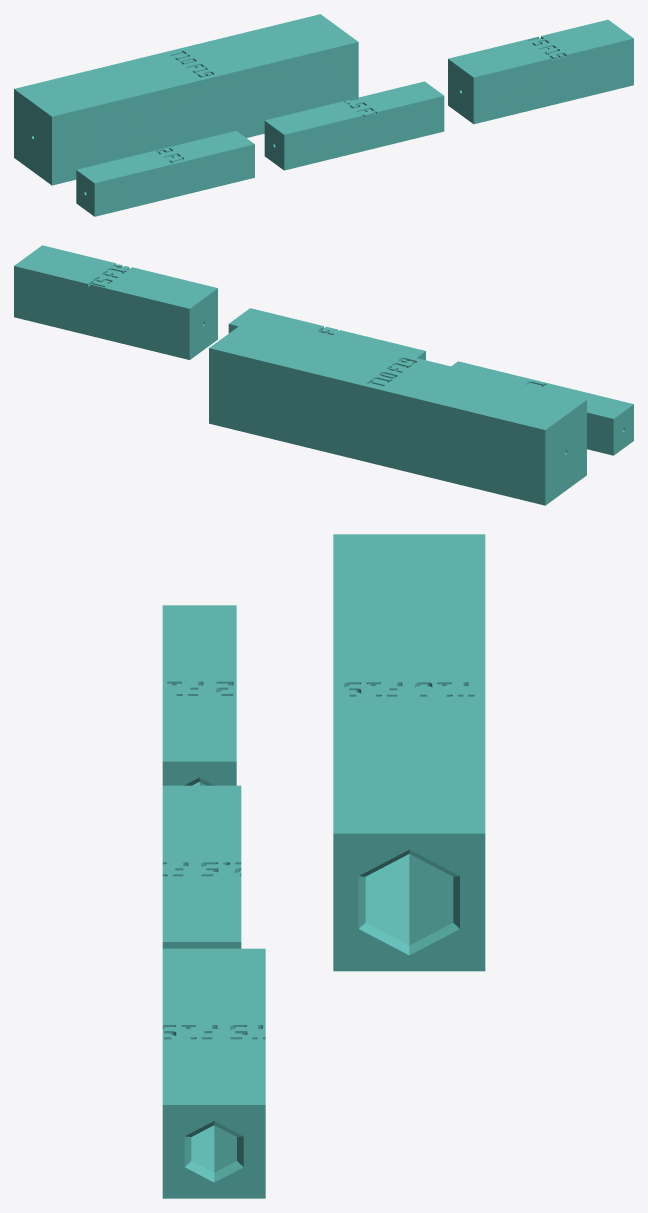
File: coupon.glb
3 views of the same model, one above another, from view 1: azimuth 30°, elevation 25°; view 2: azimuth 150°, elevation 25°; view 3: azimuth 270°, elevation 25° (orthographic). The views are drawn at different scales.
Visible parts, largest first — view 1: 40 mm minimum shaft guide coupon; view 2: 40 mm minimum shaft guide coupon; view 3: 40 mm minimum shaft guide coupon.
Part boxes in pixels (bbox=[...]): 40 mm minimum shaft guide coupon: bbox=[14, 14, 633, 216]; 40 mm minimum shaft guide coupon: bbox=[14, 245, 633, 505]; 40 mm minimum shaft guide coupon: bbox=[162, 534, 485, 1198].
Bounding box in the file's own units: 0.1474 × 0.018 × 0.0382.
